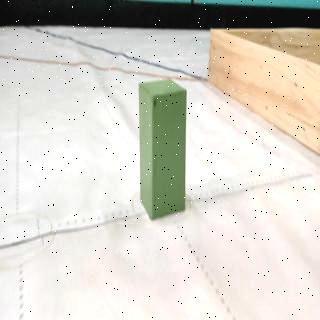greenbox: (140, 76, 188, 222)
